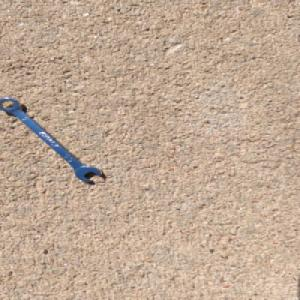Wrench: (0, 96, 104, 183)
